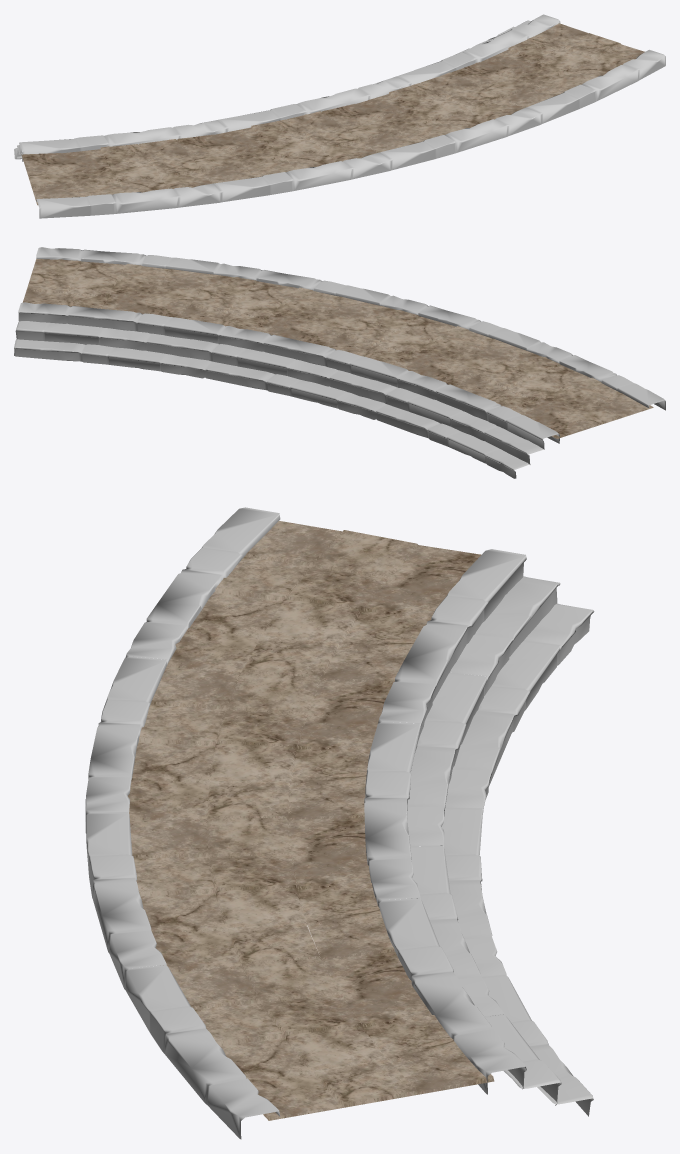
The picture shows the model from 3 angles, top to bottom: view 1: azimuth 30°, elevation 25°; view 2: azimuth 150°, elevation 25°; view 3: azimuth 270°, elevation 25°; orthographic projection. The views are drawn at different scales.
Parts seen in each view (by area): view 1: SM_Steps01_LOD0; view 2: SM_Steps01_LOD0; view 3: SM_Steps01_LOD0.
Part boxes in pixels (x1,y1,x2,y2): SM_Steps01_LOD0: [14, 14, 665, 218]; SM_Steps01_LOD0: [14, 247, 665, 478]; SM_Steps01_LOD0: [85, 507, 594, 1139].
Bounding box in the file's own units: 18.17 × 0.8971 × 6.39.
